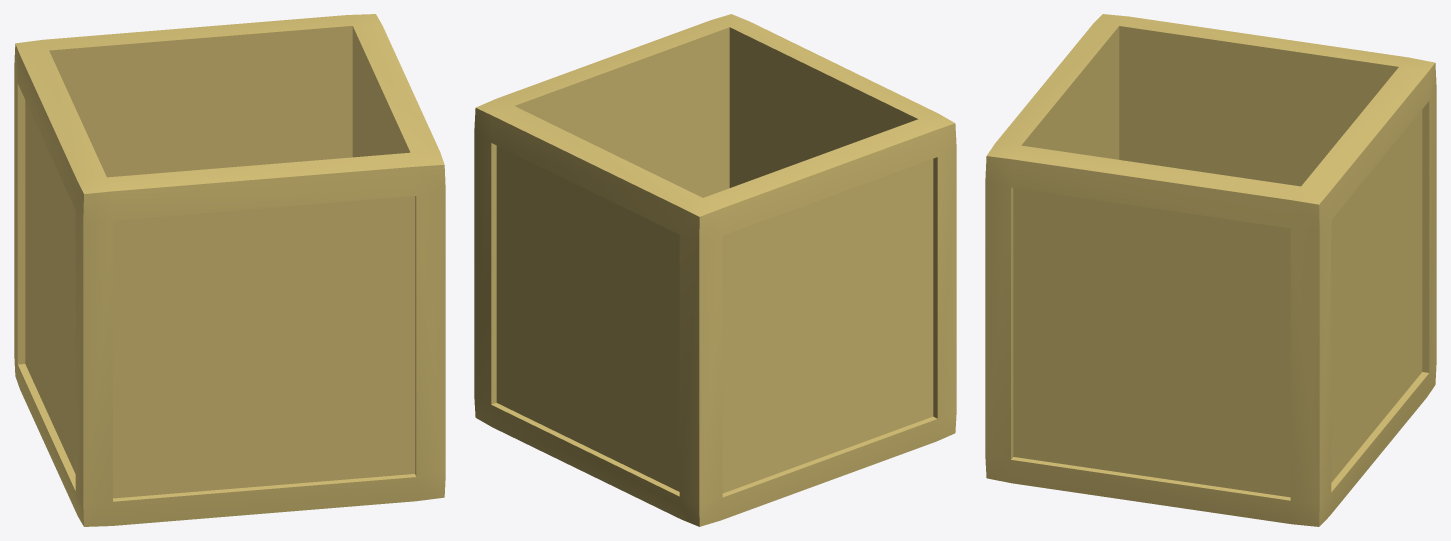
The model's file is ZG_Proxy_Box5.fbx.
The picture shows the model from 3 angles, left to right: view 1: azimuth 30°, elevation 25°; view 2: azimuth 150°, elevation 25°; view 3: azimuth 270°, elevation 25°; orthographic projection. The views are drawn at different scales.
Visible parts, largest first — view 1: CardboardBox1; view 2: CardboardBox1; view 3: CardboardBox1.
Boxes of the visible parts, left/top/right/bottom form: CardboardBox1: left=14, top=14, right=445, bottom=526; CardboardBox1: left=474, top=14, right=956, bottom=526; CardboardBox1: left=985, top=14, right=1436, bottom=526.
Bounding box in the file's own units: 120 × 95.92 × 120.
